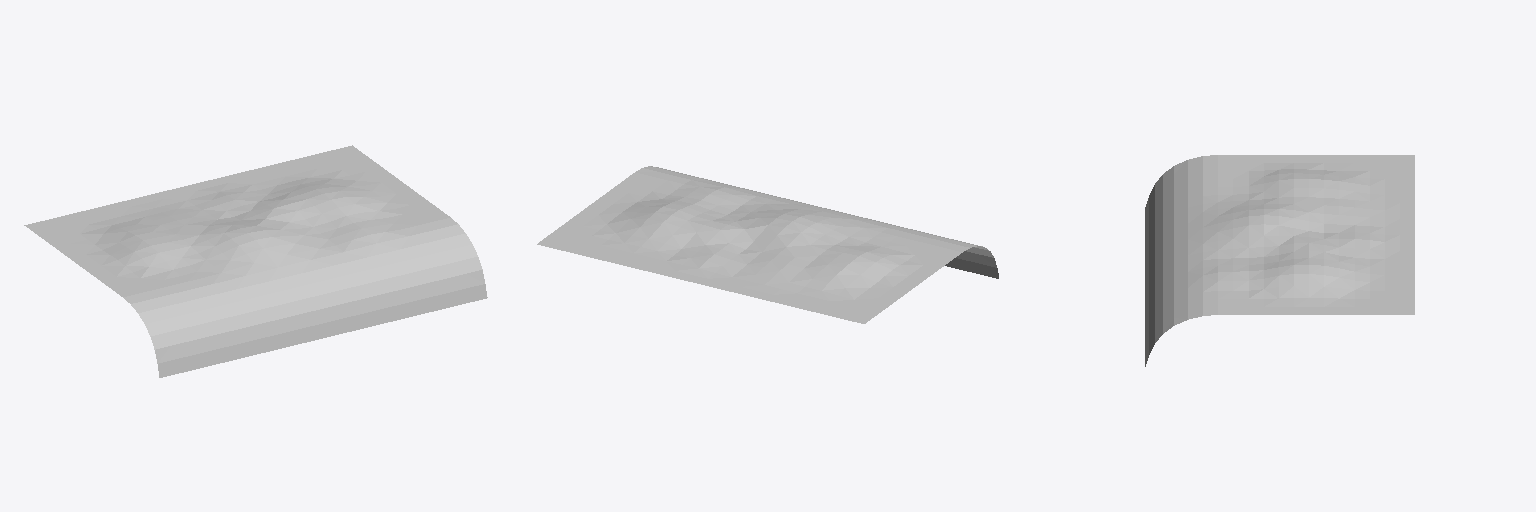
File: groundFront3.obj
The picture shows the model from 3 angles: view 1: azimuth 30°, elevation 25°; view 2: azimuth 150°, elevation 25°; view 3: azimuth 270°, elevation 25°; orthographic projection.
Visible parts, largest first — view 1: pPlane1; view 2: pPlane1; view 3: pPlane1.
Part boxes in pixels (x1,y1,x2,y2): pPlane1: (24,145,487,377); pPlane1: (537,166,998,323); pPlane1: (1145,155,1414,366).
Size of the model in its own units: 15 by 2.87 by 10.71.